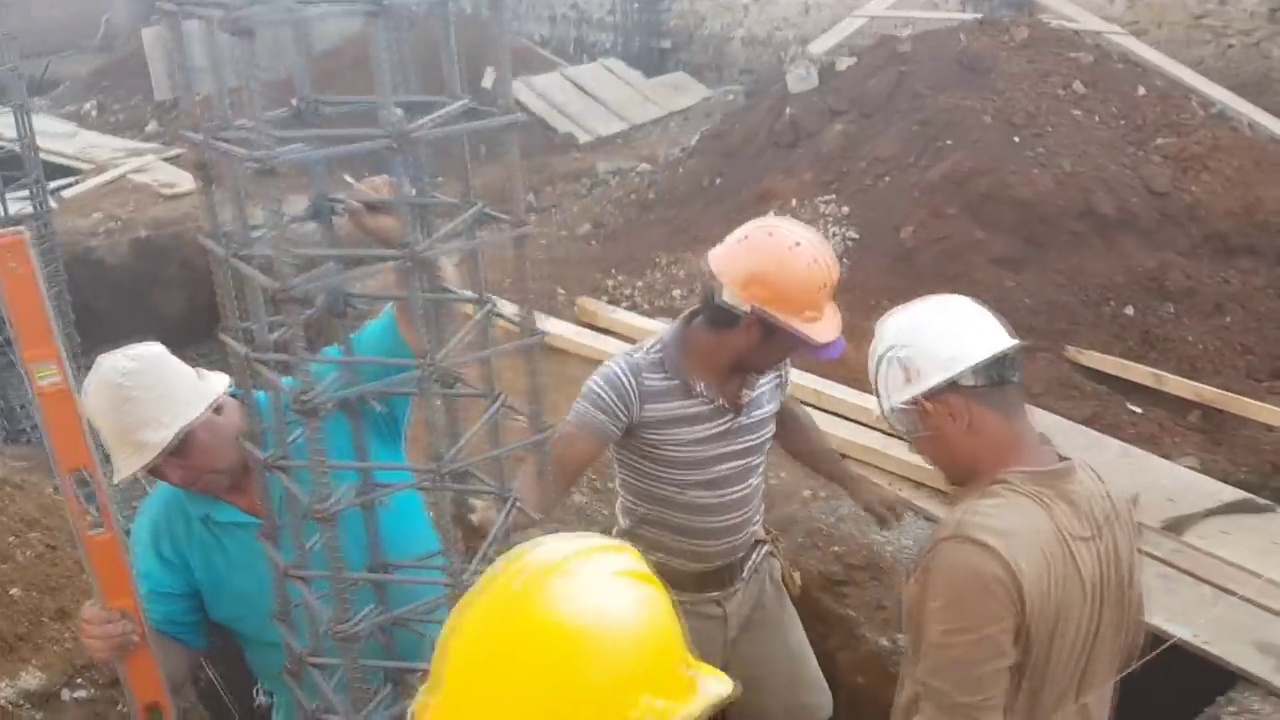helmet: (431, 533, 724, 719), (880, 297, 1035, 433), (710, 216, 844, 341)
helmet-off: (86, 339, 267, 514)
helmet-on: (876, 284, 1072, 510), (657, 214, 849, 410)
person: (431, 202, 872, 719), (80, 167, 457, 711), (877, 289, 1154, 719)
